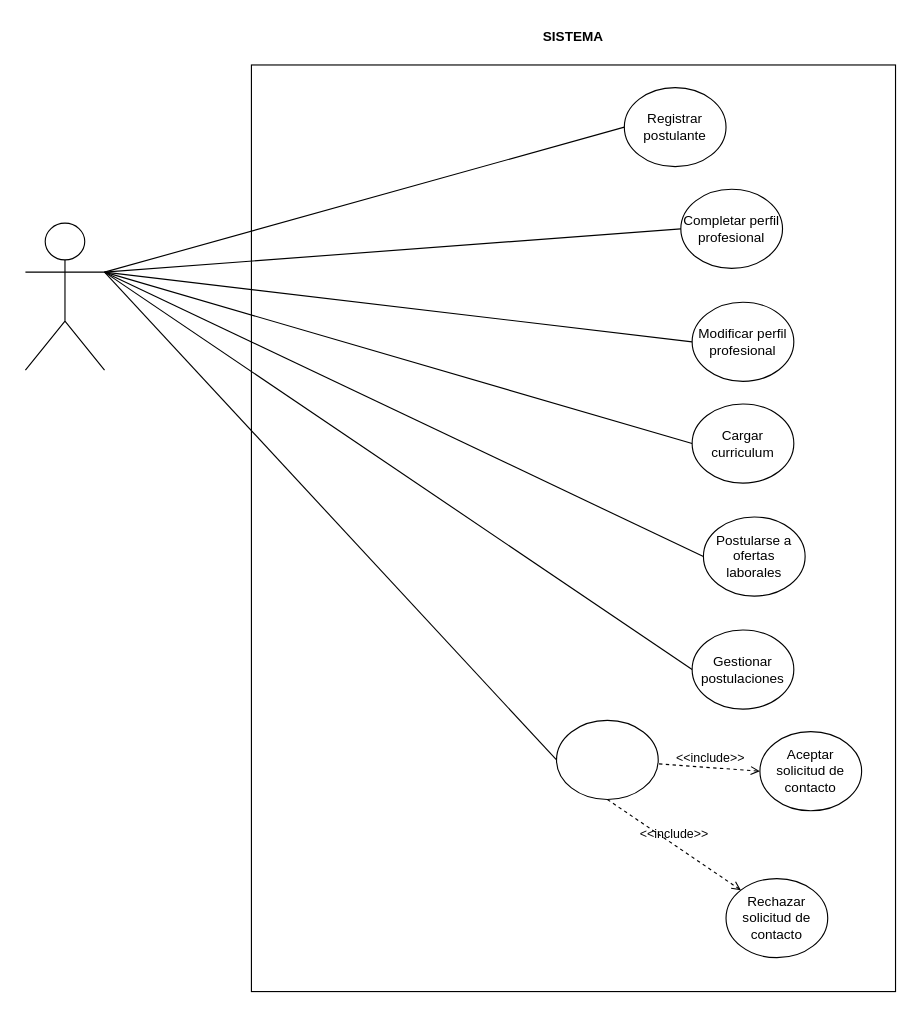
Some shapes in this 915 by 1011 pixel diagram are drawn without their labels. The shapes that lost their labels are listed below. From the top down, each one's centre as x and y in pixels, then its label:
At point 64,296: "POSTULANTE".
At point 606,759: "Gestionar solicitudes de contacto".
